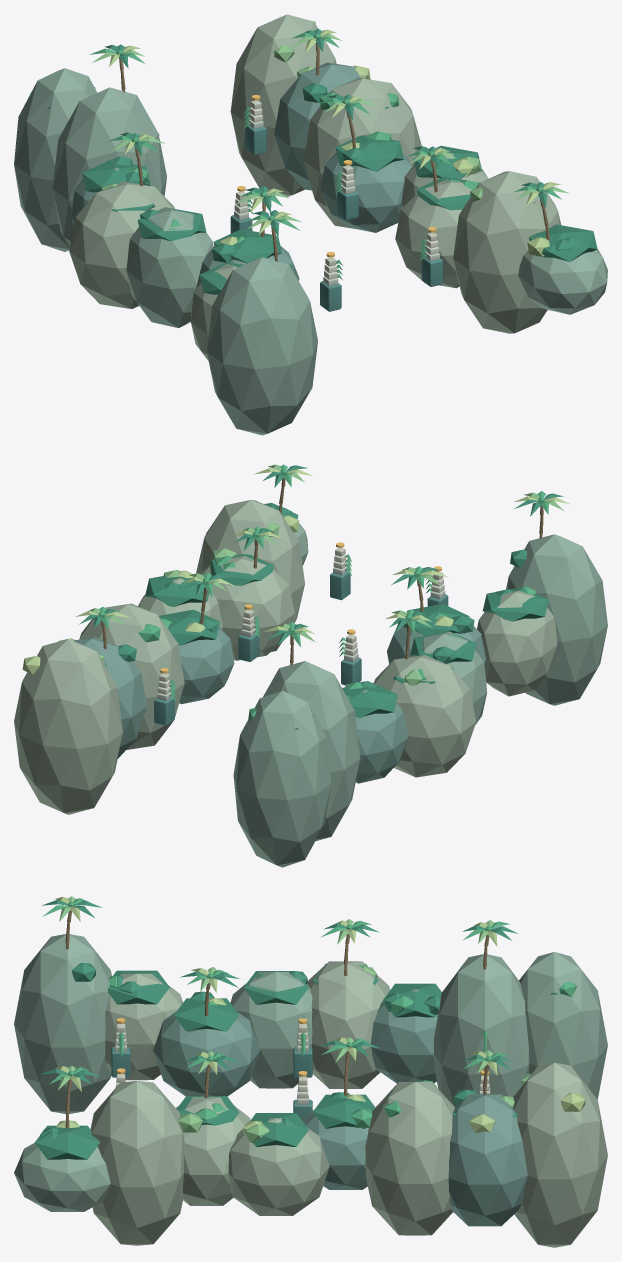
Rendered from canyon.glb.
3 views of the same model, one above another, from view 1: azimuth 30°, elevation 25°; view 2: azimuth 150°, elevation 25°; view 3: azimuth 270°, elevation 25° (orthographic). The views are drawn at different scales.
Parts seen in each view (by area): view 1: Basalt_island, Basalt_island.001, Moss_crown, Basalt_island.002, Palm_frond.001, Ruin_plinth, Palm_frond.003, Palm_frond.002, Branch; view 2: Basalt_island.001, Basalt_island, Moss_crown, Basalt_island.002, Palm_frond.001, Ruin_plinth, Palm_frond.003, Palm_frond.002, Branch; view 3: Basalt_island.001, Basalt_island, Basalt_island.002, Moss_crown, Palm_frond.001, Palm_frond.003, Palm_frond.002, Ruin_plinth, Branch.
Boxes of the visible parts, x1,y1,x2,y2 form: Basalt_island: [14, 68, 607, 435]; Basalt_island.001: [69, 14, 561, 360]; Moss_crown: [30, 28, 597, 294]; Basalt_island.002: [71, 62, 412, 287]; Palm_frond.001: [90, 32, 561, 279]; Ruin_plinth: [230, 125, 443, 311]; Palm_frond.003: [109, 20, 560, 256]; Palm_frond.002: [92, 33, 569, 228]; Branch: [119, 42, 549, 261]; Basalt_island.001: [14, 500, 557, 814]; Basalt_island: [233, 523, 607, 867]; Moss_crown: [79, 465, 563, 729]; Basalt_island.002: [73, 625, 485, 783]; Palm_frond.001: [98, 464, 548, 720]; Ruin_plinth: [154, 572, 448, 725]; Palm_frond.003: [22, 468, 569, 674]; Palm_frond.002: [89, 464, 563, 685]; Branch: [101, 477, 543, 665]; Basalt_island.001: [90, 961, 607, 1247]; Basalt_island: [14, 934, 607, 1211]; Basalt_island.002: [153, 989, 527, 1226]; Moss_crown: [34, 900, 558, 1159]; Palm_frond.001: [42, 898, 576, 1127]; Palm_frond.003: [55, 897, 585, 1139]; Palm_frond.002: [58, 896, 531, 1142]; Ruin_plinth: [111, 1047, 312, 1119]; Branch: [65, 910, 489, 1128].
Size of the model in its own units: 42.11 by 23.42 by 55.5.
